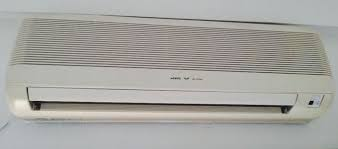ac: (6, 12, 334, 129)
